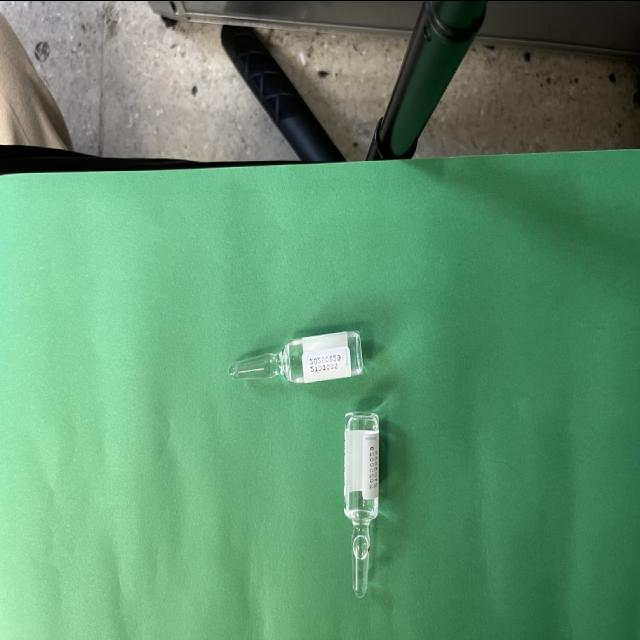Ampoules: (228, 331, 363, 384), (344, 412, 380, 598)
